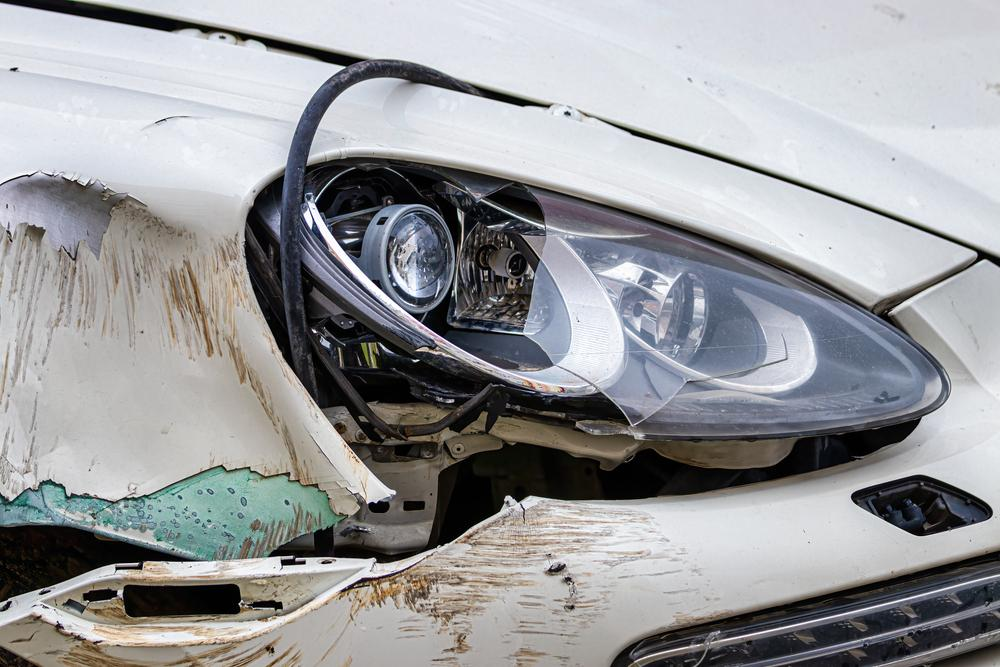dent: (0, 173, 381, 553)
lamp broken: (239, 159, 949, 449)
scratch: (23, 495, 722, 667)
